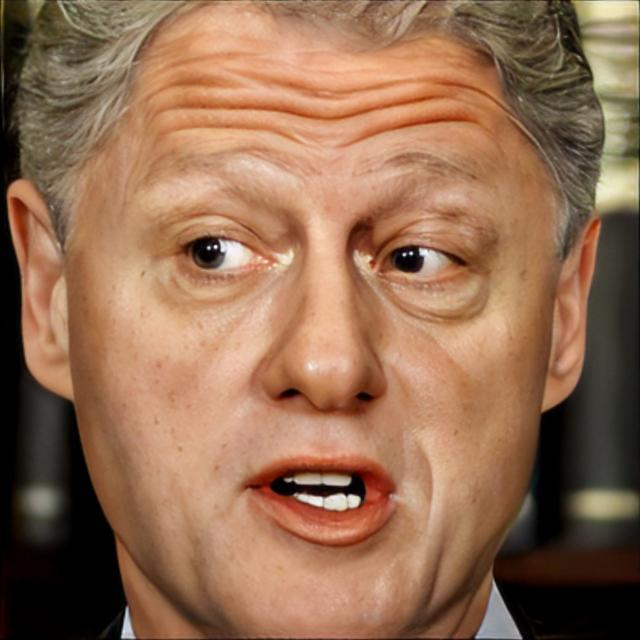surprise: (64, 0, 562, 640)
